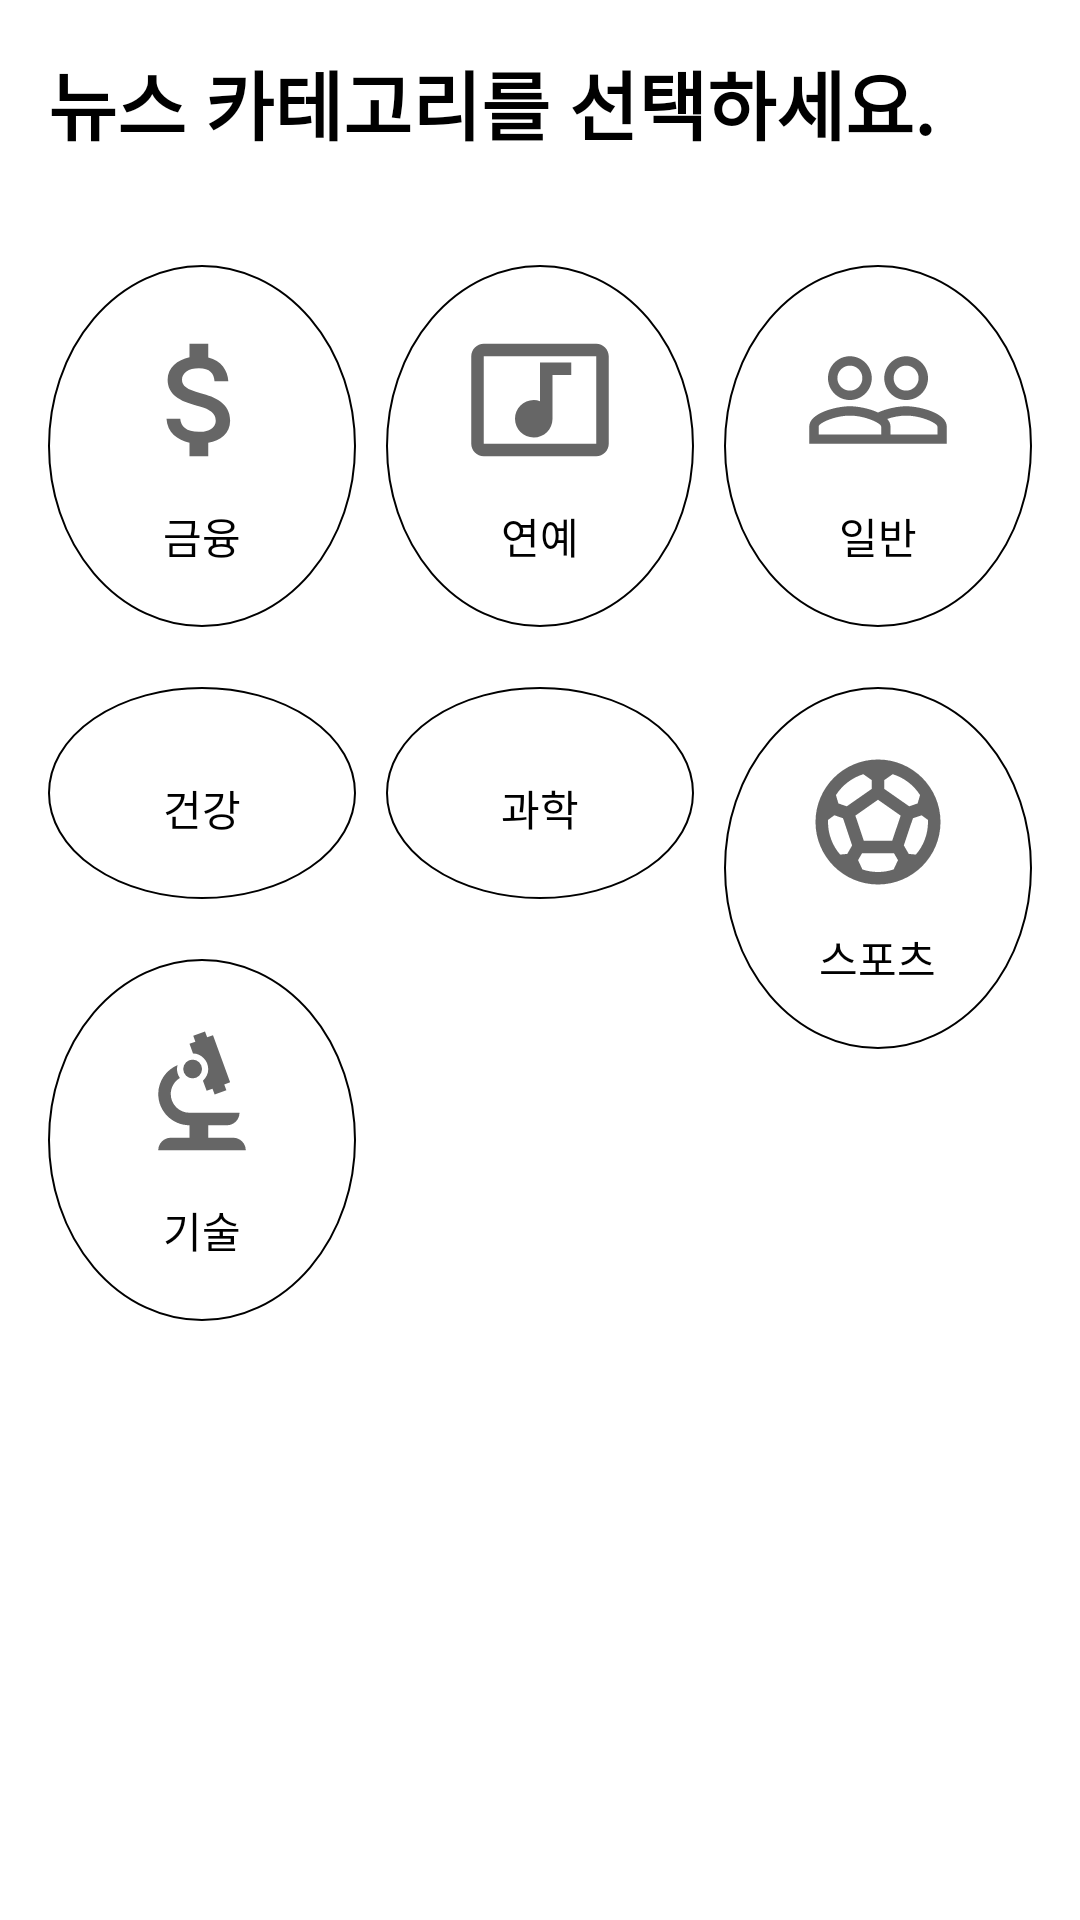

Named icons in this screenshot (1080px×1920px) and their bounding boxes, (x1, y1, x2, y2):
business: (166, 343, 230, 457)
entertainment: (471, 343, 609, 457)
general: (809, 356, 947, 444)
sports: (815, 759, 941, 885)
technology: (158, 1031, 246, 1151)
